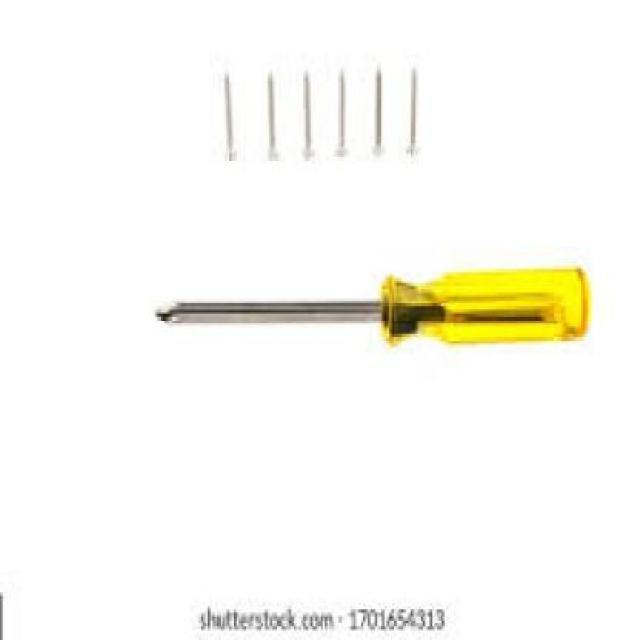screwdriver: (158, 269, 590, 354)
